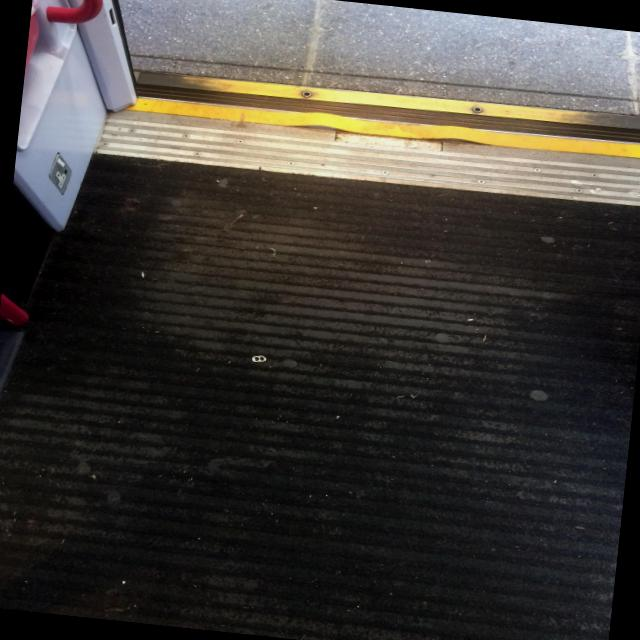Pop tab: (252, 356, 265, 362)
